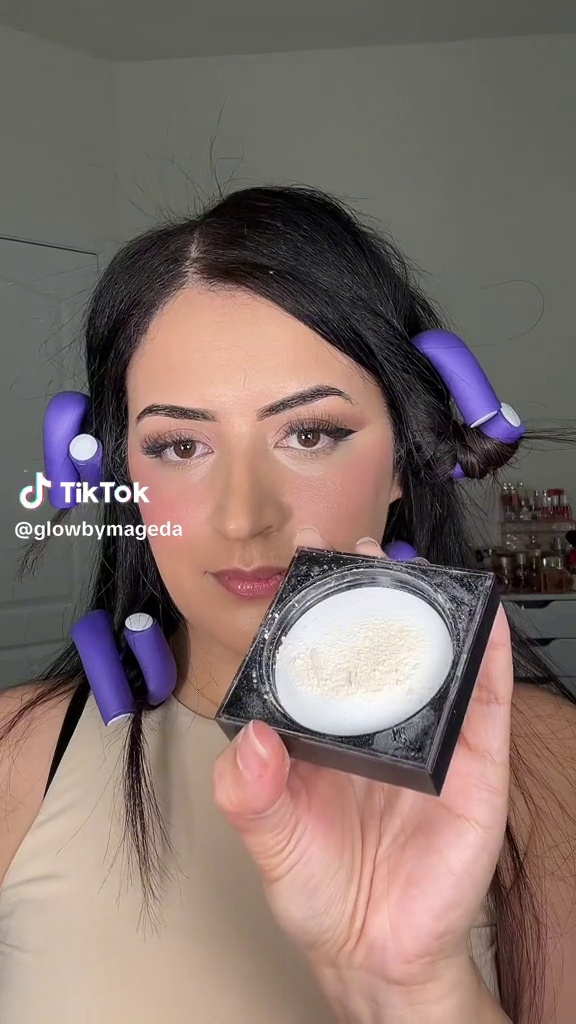train' :'yolo_data/train/images',: (205, 539, 509, 802)
